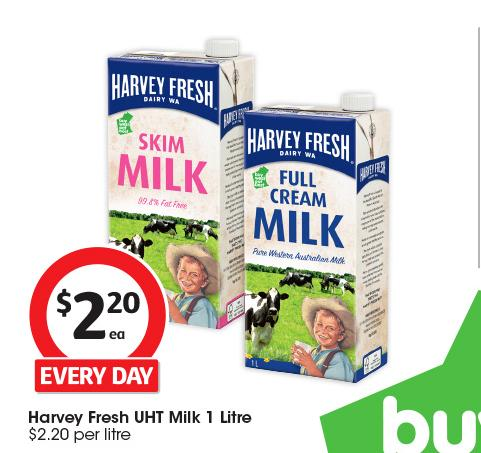description_block: (20, 402, 268, 430)
price_main: (29, 256, 166, 360)
product_image_block: (122, 42, 397, 377)
promo_text_block: (26, 358, 171, 399)
unit_price_block: (17, 424, 141, 443)
